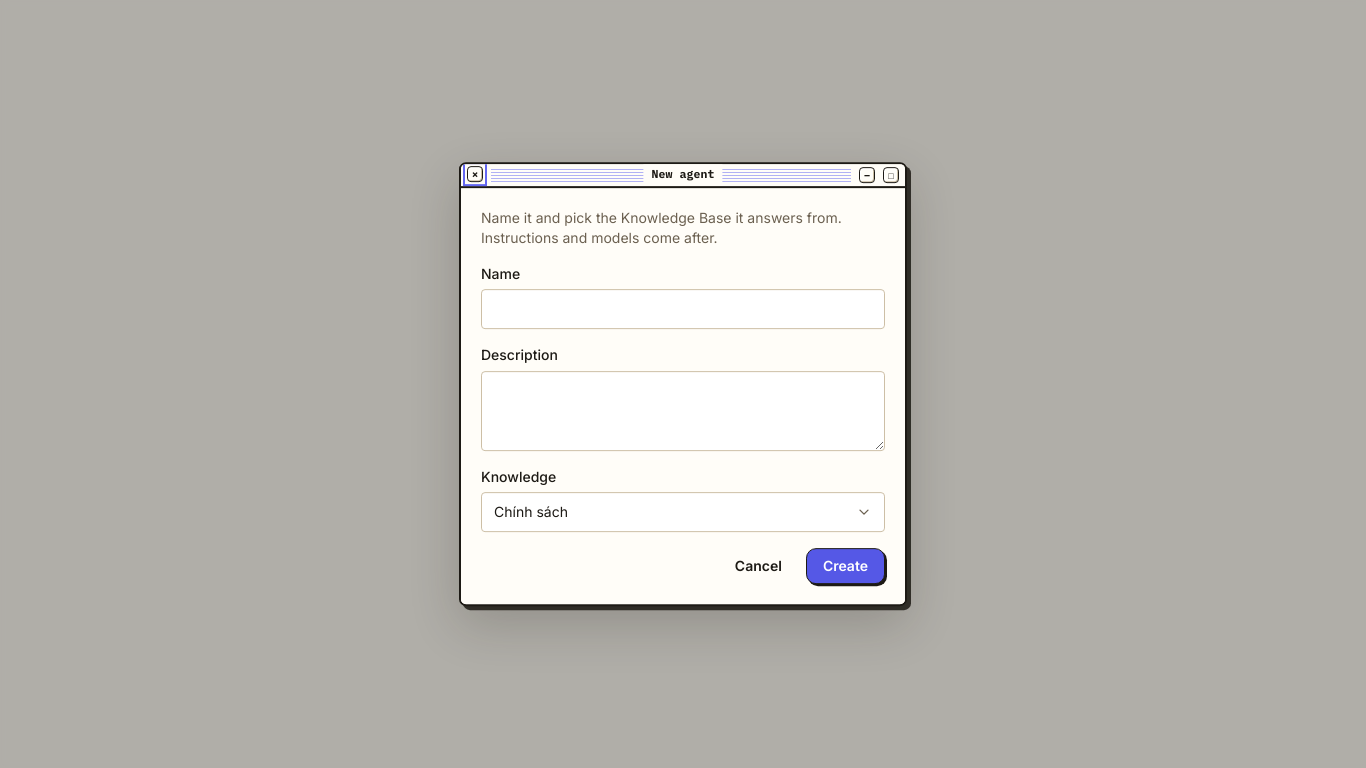
Test case: NewAgentDialog › keeps a taken name on the field instead of a toast
Type "Pháp chế" into the field labelled "Name" at (683, 309), box left=481, top=289, right=885, bottom=329
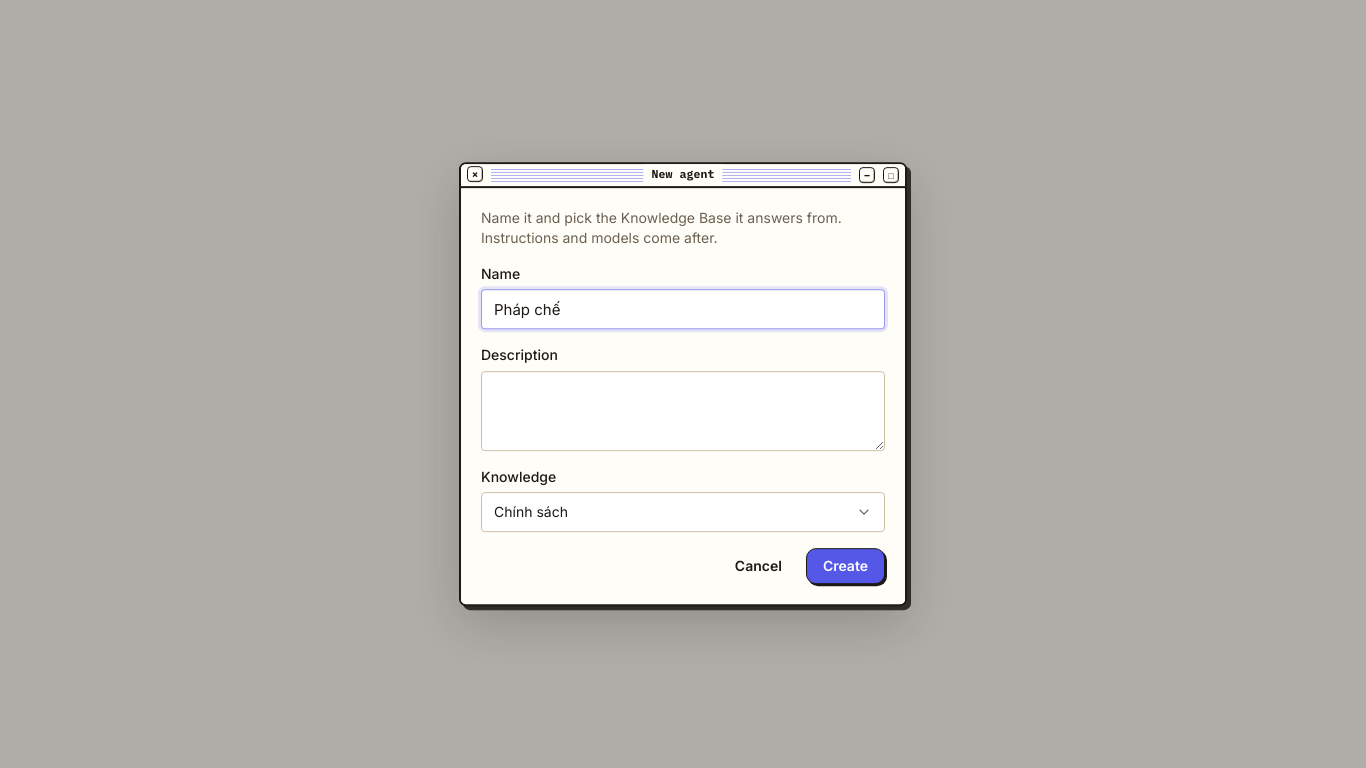
Click the button "Create" at (845, 566), box left=806, top=548, right=885, bottom=584
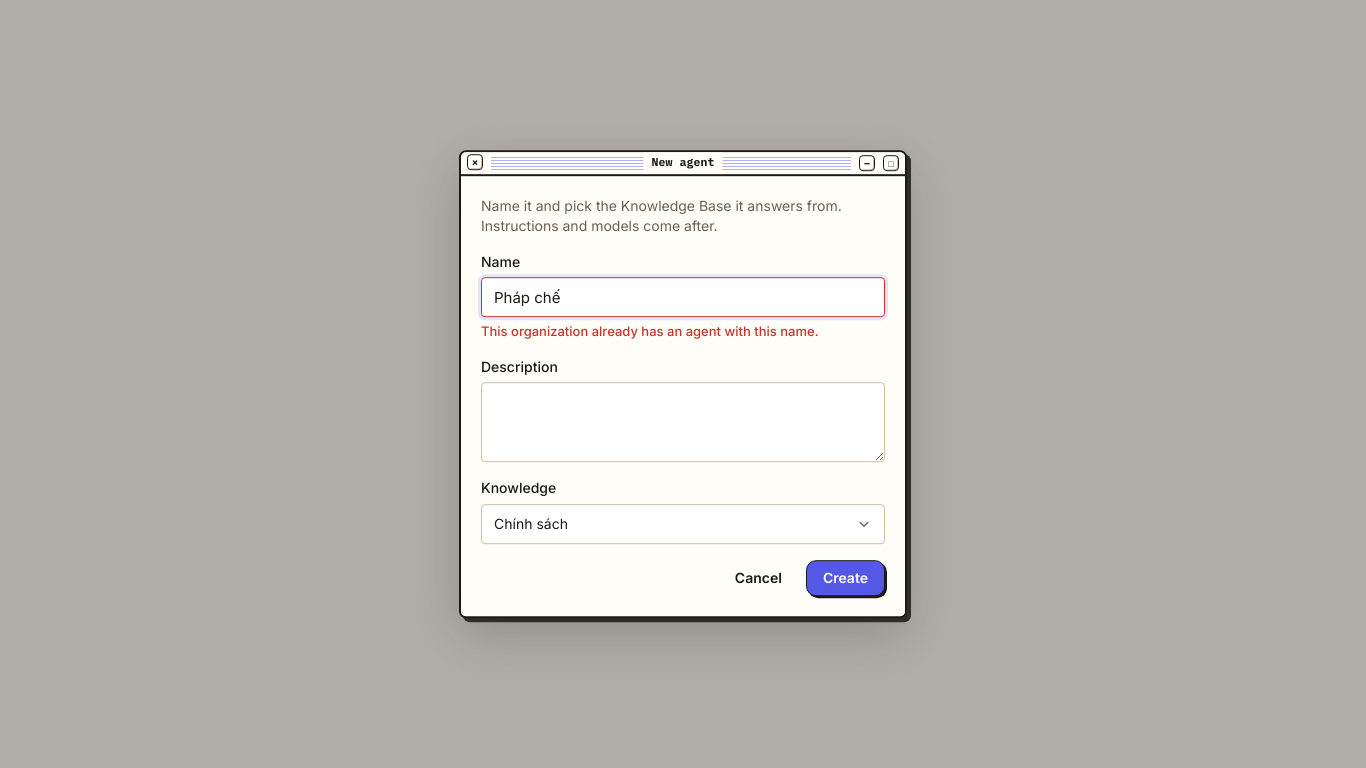
Expected: the text "This organization already has an agent with this name." is shown, left=481, top=323, right=819, bottom=339
